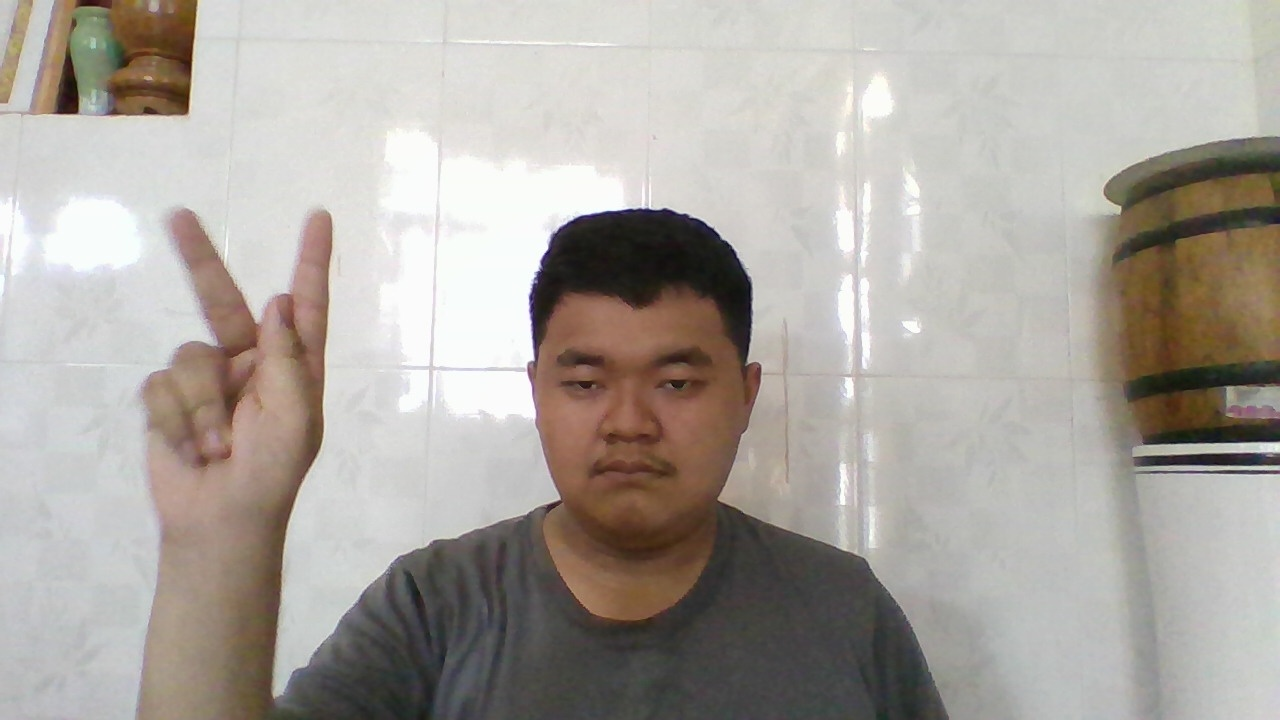K: (138, 203, 333, 536)
